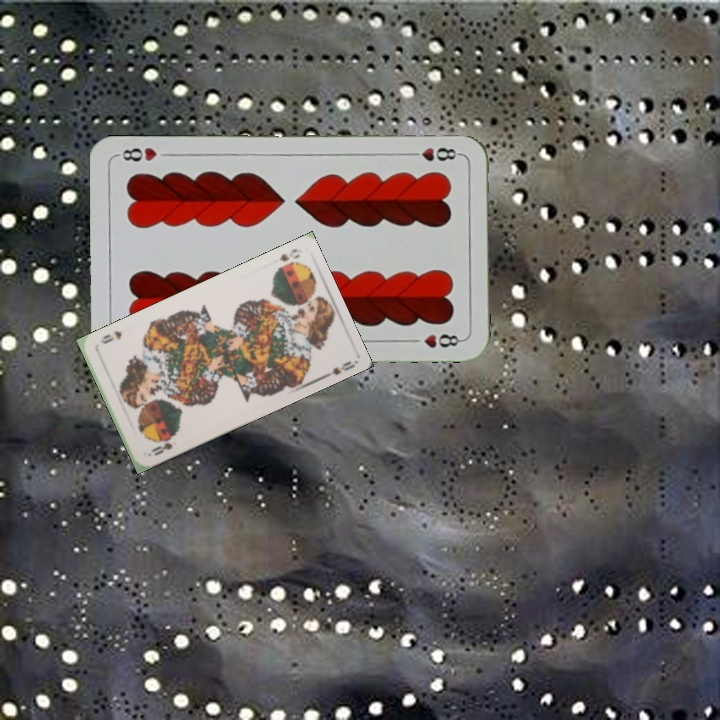H8: (404, 144, 463, 164)
SO: (147, 438, 175, 458), (276, 244, 302, 264)
